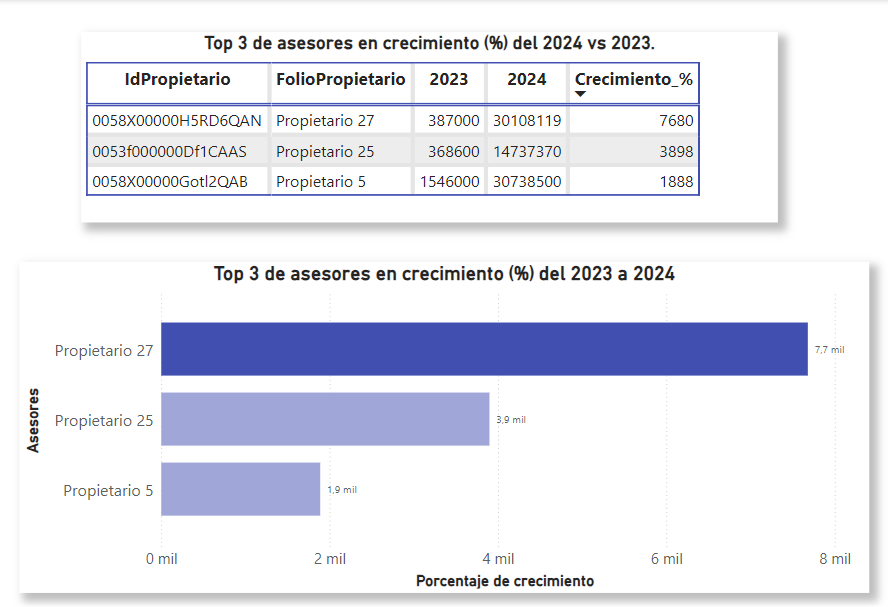

This screenshot's page, from the dashboard's own definition file:
{"tool":"powerbi","page":{"name":"P3_Crecimiento_asesores","canvas":[1280,720],"ordinal":2},"visuals":[{"type":"tableEx","title":"Top 3 de asesores en crecimiento (%) del 2024 vs 2023.","fields":{"Values":["T_CRECIMIENTO_PROPIETARIOS.IdPropietario","T_CRECIMIENTO_PROPIETARIOS.FolioPropietario","T_CRECIMIENTO_PROPIETARIOS.2023","T_CRECIMIENTO_PROPIETARIOS.2024","T_CRECIMIENTO_PROPIETARIOS.Crecimiento_%"]},"box":[95,38.3,816.7,223.3],"z":0},{"type":"barChart","title":"Top 3 de asesores en crecimiento (%) del 2023 a 2024","fields":{"Y":["Sum(T_CRECIMIENTO_PROPIETARIOS.Crecimiento_%)"],"Category":["T_CRECIMIENTO_PROPIETARIOS.FolioPropietario"]},"box":[23.3,308.3,996.7,388.3],"z":1000}]}

Visuals, with their boxes on the page's 1280x720 design canvas (x1, y1, x2, y2). These are canvas units, not pixel positions in the 888x607 screenshot, which may show the page scaled, cropped or inside an application window:
"Top 3 de asesores en crecimiento (%) del 2024 vs 2023." tableEx: <box>95,38,912,262</box>
"Top 3 de asesores en crecimiento (%) del 2023 a 2024" barChart: <box>23,308,1020,697</box>
